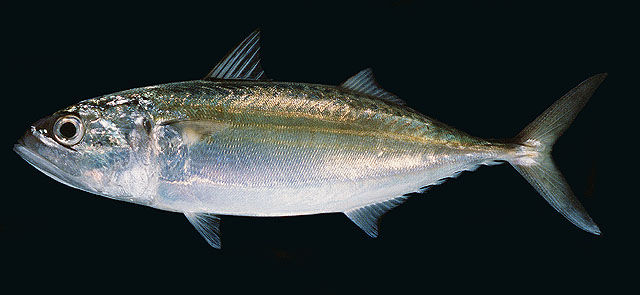fish: (13, 28, 611, 250)
